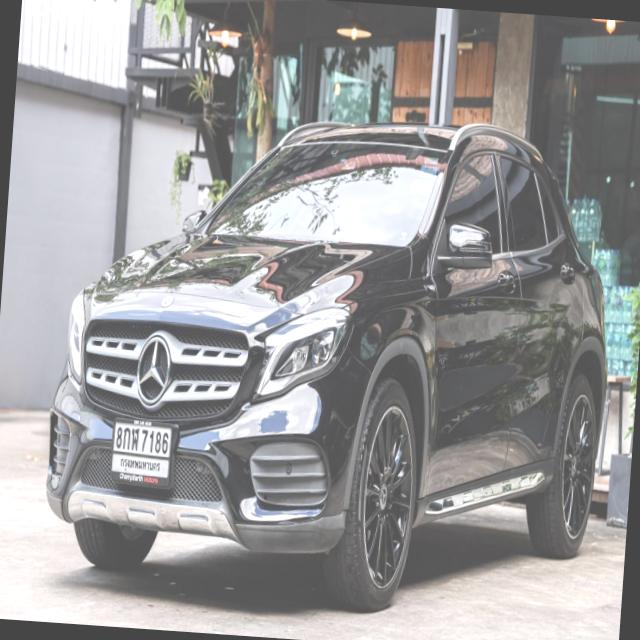license_plate: (110, 416, 175, 488)
